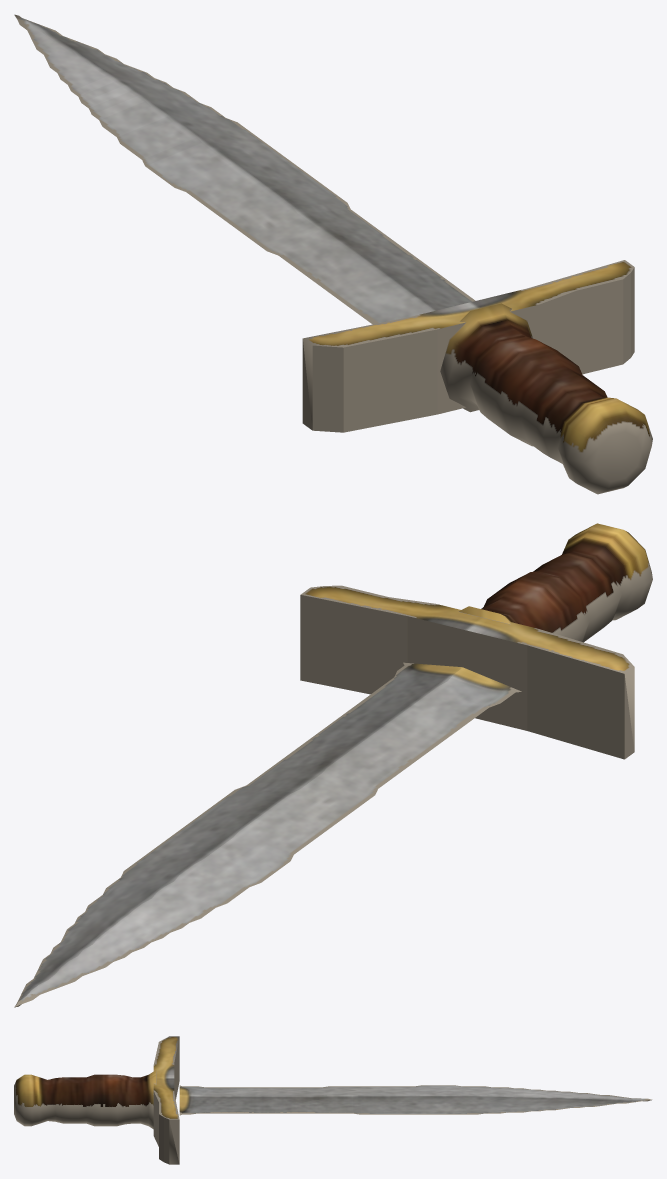
File: item_mm9_10032.glb
The picture shows the model from 3 angles, top to bottom: view 1: azimuth 30°, elevation 25°; view 2: azimuth 150°, elevation 25°; view 3: azimuth 270°, elevation 25°; orthographic projection. The views are drawn at different scales.
Visible parts, largest first — view 1: d10032; view 2: d10032; view 3: d10032.
Boxes of the visible parts, box(x1,y1,x2,y2) form: d10032: box(14, 14, 652, 494); d10032: box(14, 523, 652, 1007); d10032: box(14, 1036, 652, 1164).
Bounding box in the file's own units: 34.06 × 10.23 × 111.
1 material, 1 textured.
